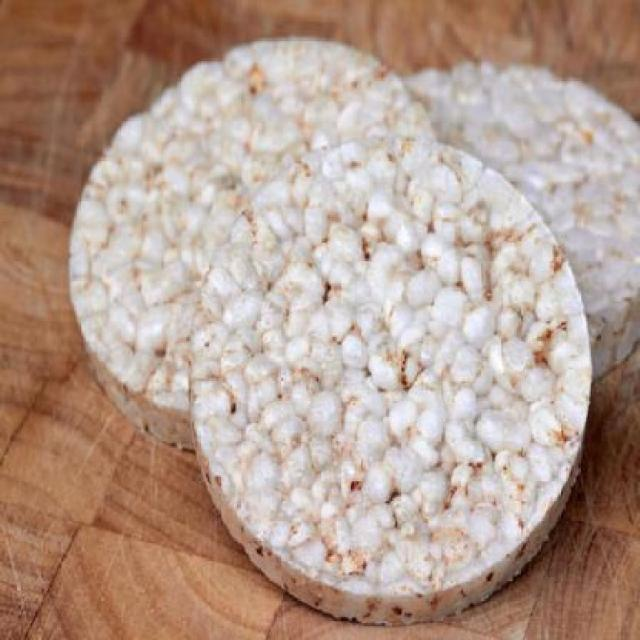Gallette di riso packaged: (189, 133, 594, 609)
